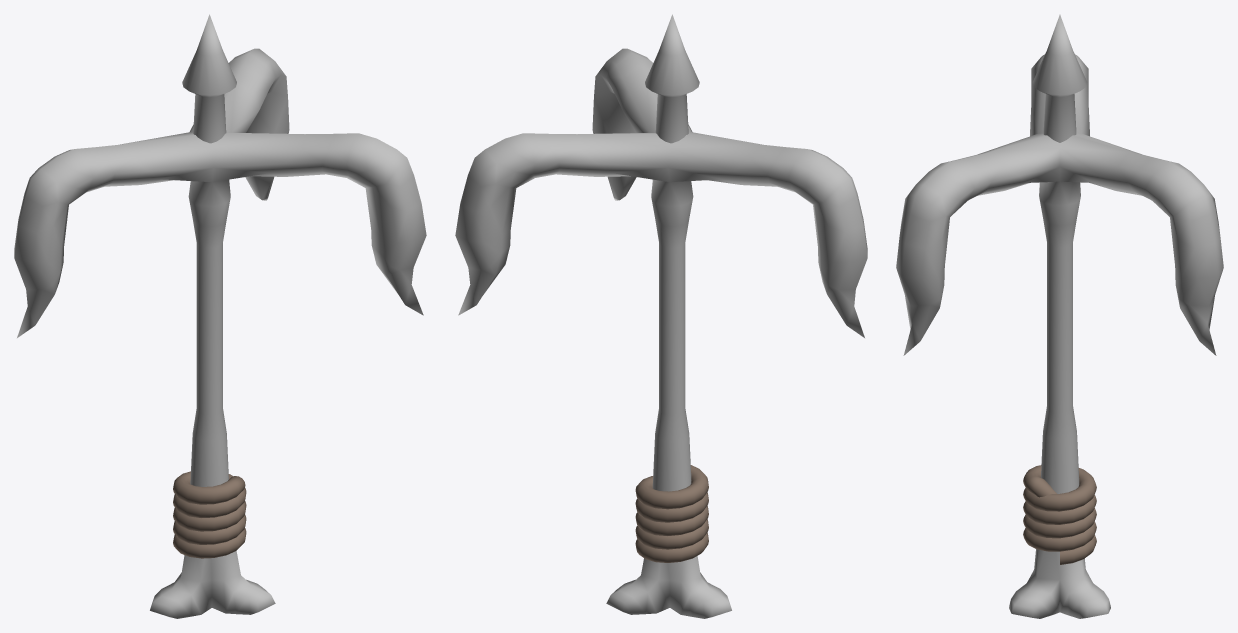
The model's file is Grappling_hook_no_rope.fbx.
3 renders of one model, left to right at view 1: azimuth 30°, elevation 25°; view 2: azimuth 150°, elevation 25°; view 3: azimuth 270°, elevation 25°, orthographic.
Parts seen in each view (by area): view 1: Grappling_Hook_head; view 2: Grappling_Hook_head; view 3: Grappling_Hook_head.
Part boxes in pixels (left/top/right/bottom): Grappling_Hook_head: left=14, top=14, right=426, bottom=618; Grappling_Hook_head: left=455, top=14, right=867, bottom=618; Grappling_Hook_head: left=896, top=14, right=1223, bottom=618.
Size of the model in its own units: 9.19 by 15.28 by 7.77.
